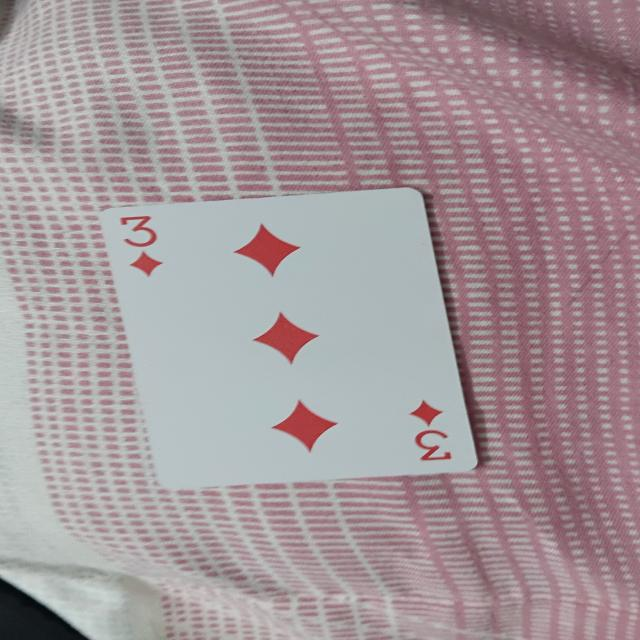3D: (95, 188, 486, 479)
